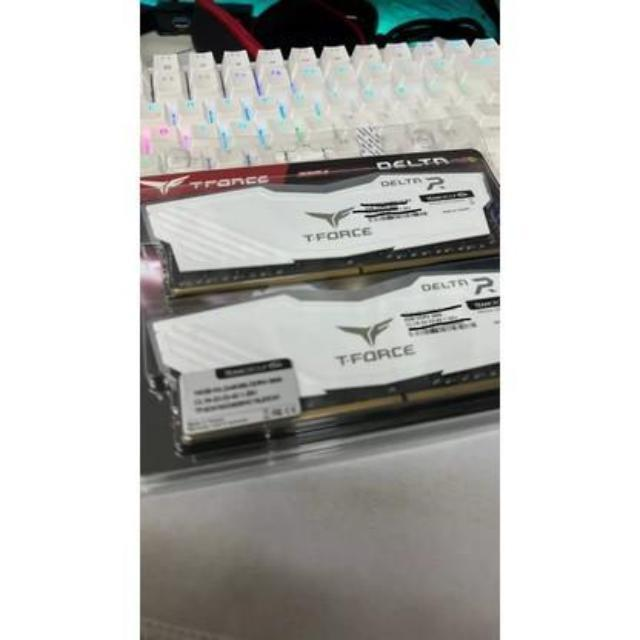RAM: (128, 292, 504, 430), (136, 175, 504, 287)
